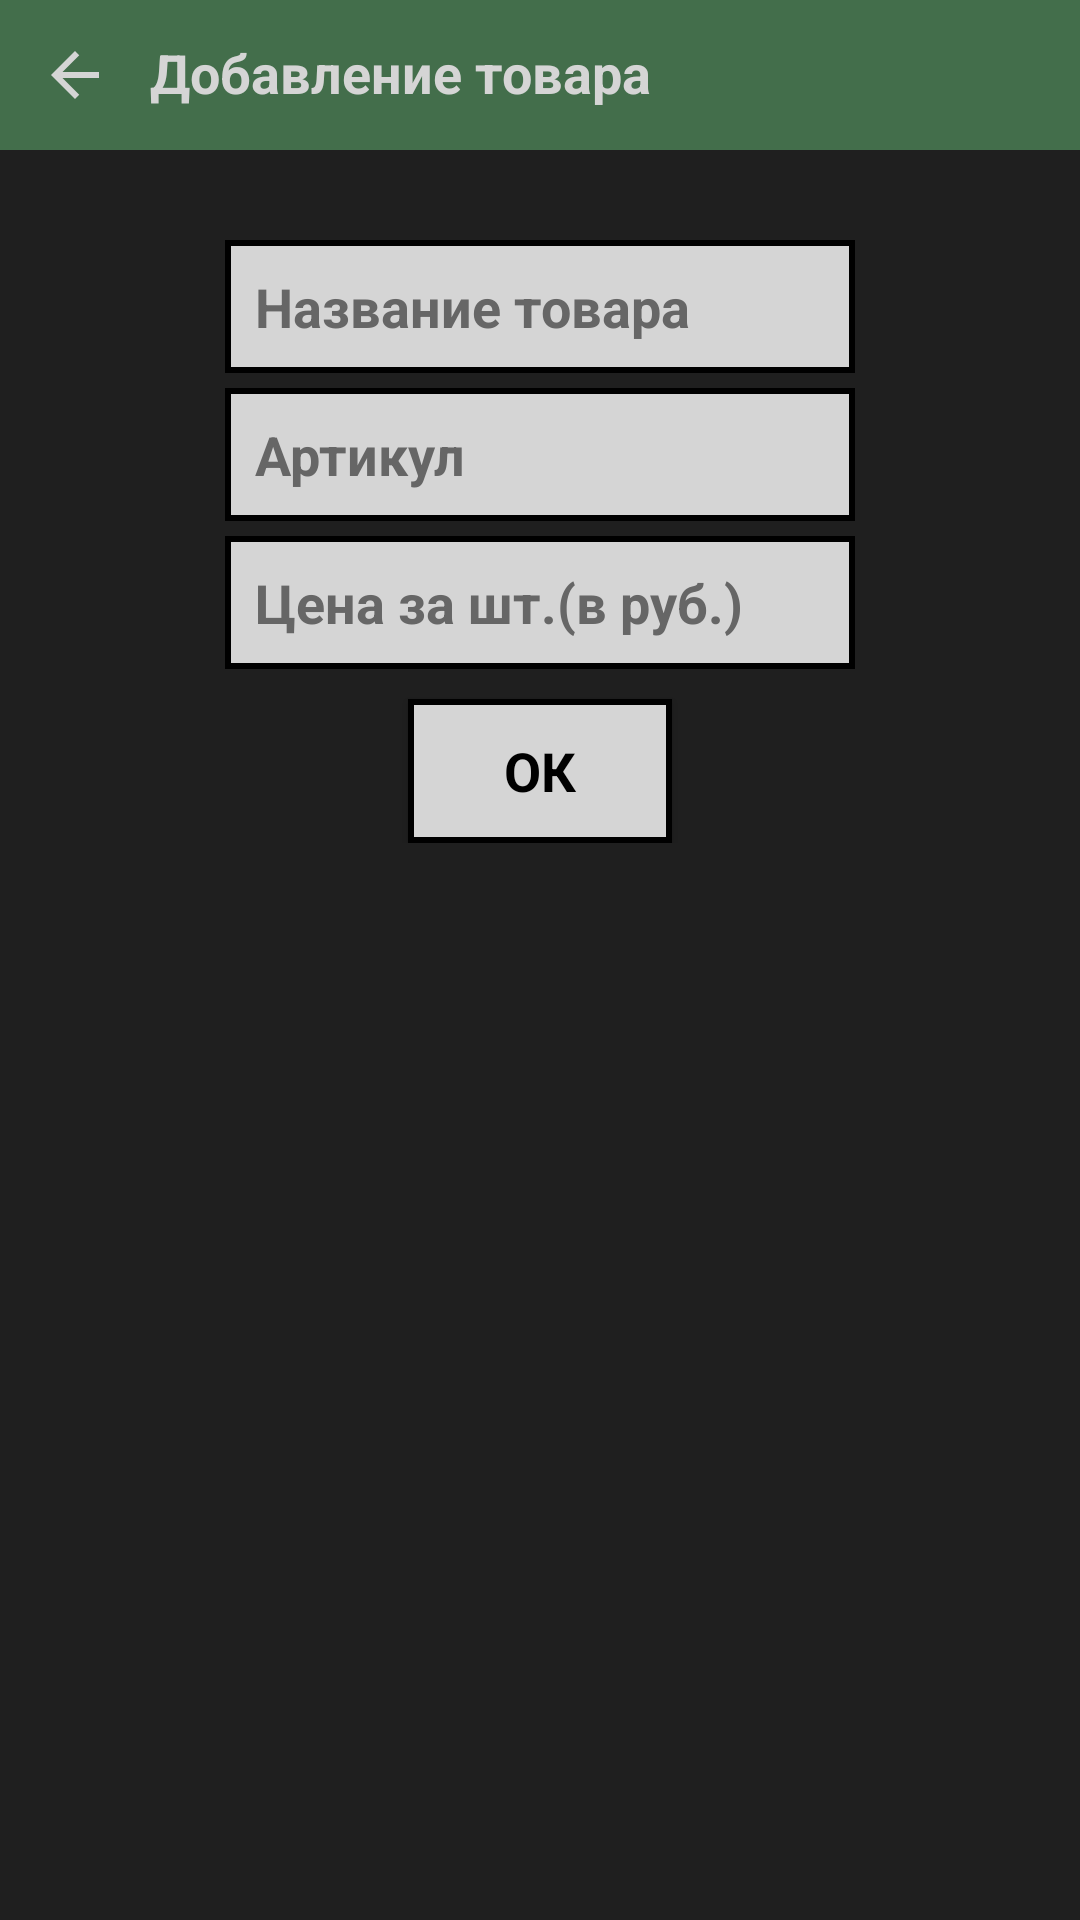

Named icons in this screenshot (1080 × 1920) and their centers, [x,y]:
arrow back: [75,75]
